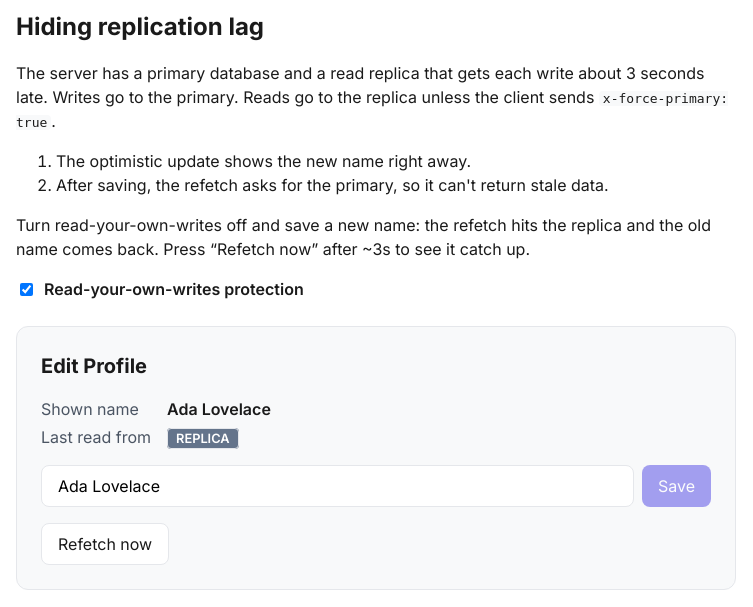
Scenario: HidingLagDemo › keeps the new name after saving when read-your-own-writes is on
Replace the text in the field named "Name" with "Grace Hopper" at (338, 486), box [41,464,634,506]
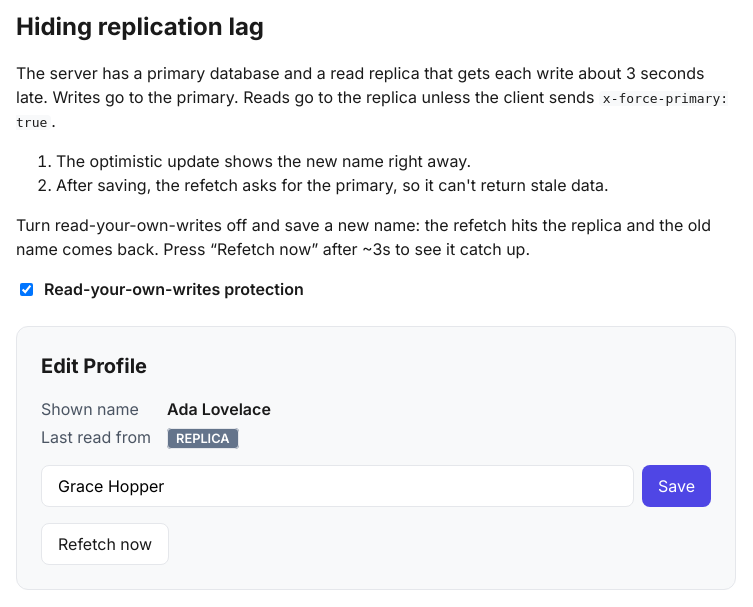
Click the button "Save" at (676, 486), box [642,464,711,506]
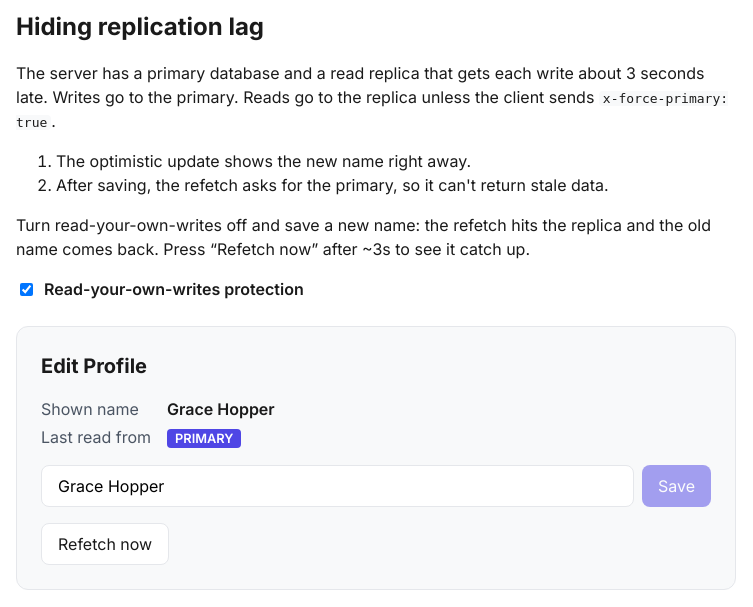
Now the text with test id "shown-name" reads "Grace Hopper", box [167,398,275,418]
